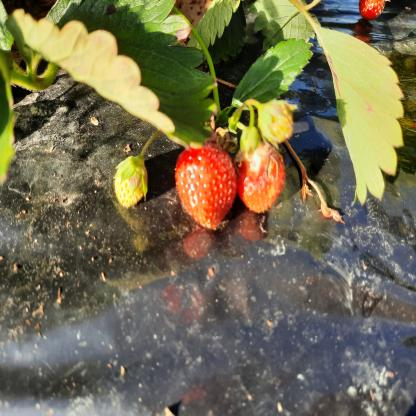ripe: (172, 149, 238, 229), (237, 137, 282, 207), (357, 0, 386, 20)
unripe: (114, 160, 146, 209)
